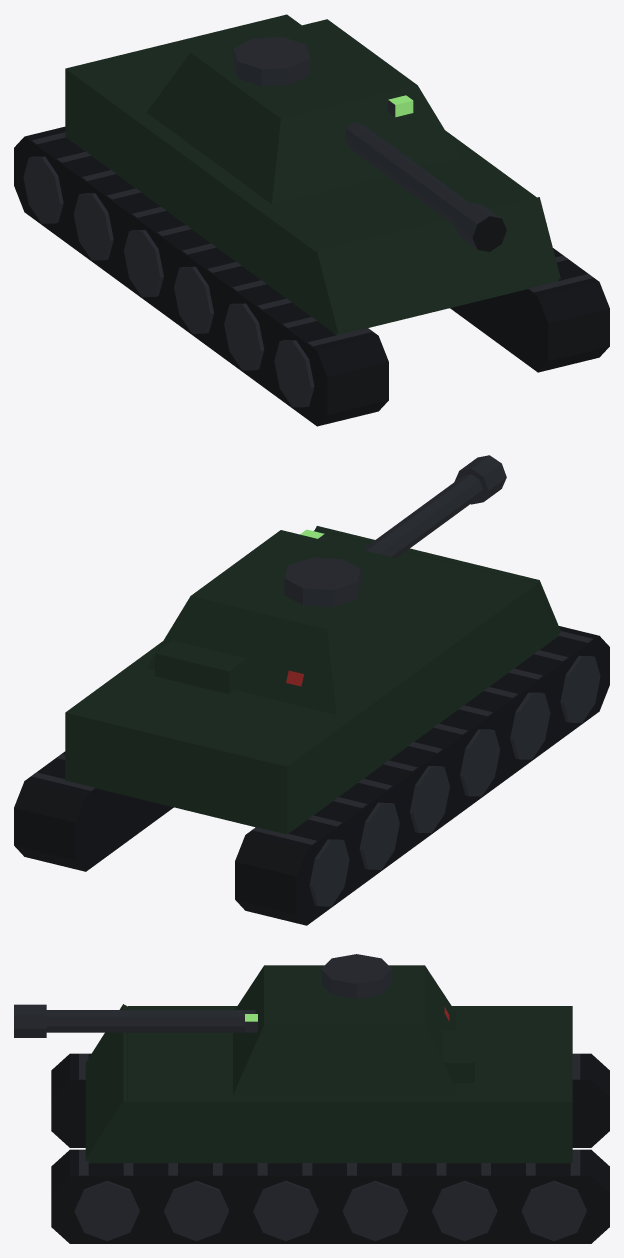
The model's file is mc-tank.glb.
The picture shows the model from 3 angles, top to bottom: view 1: azimuth 30°, elevation 25°; view 2: azimuth 150°, elevation 25°; view 3: azimuth 270°, elevation 25°; orthographic projection. The views are drawn at different scales.
Visible parts, largest first — view 1: vehicle_tank; view 2: vehicle_tank; view 3: vehicle_tank.
Part boxes in pixels (x1,y1,x2,y2): vehicle_tank: (14, 14, 609, 426); vehicle_tank: (14, 455, 609, 925); vehicle_tank: (14, 954, 609, 1243).
Size of the model in its own units: 3.2 by 2.4 by 6.4.
1 material, 1 textured.
